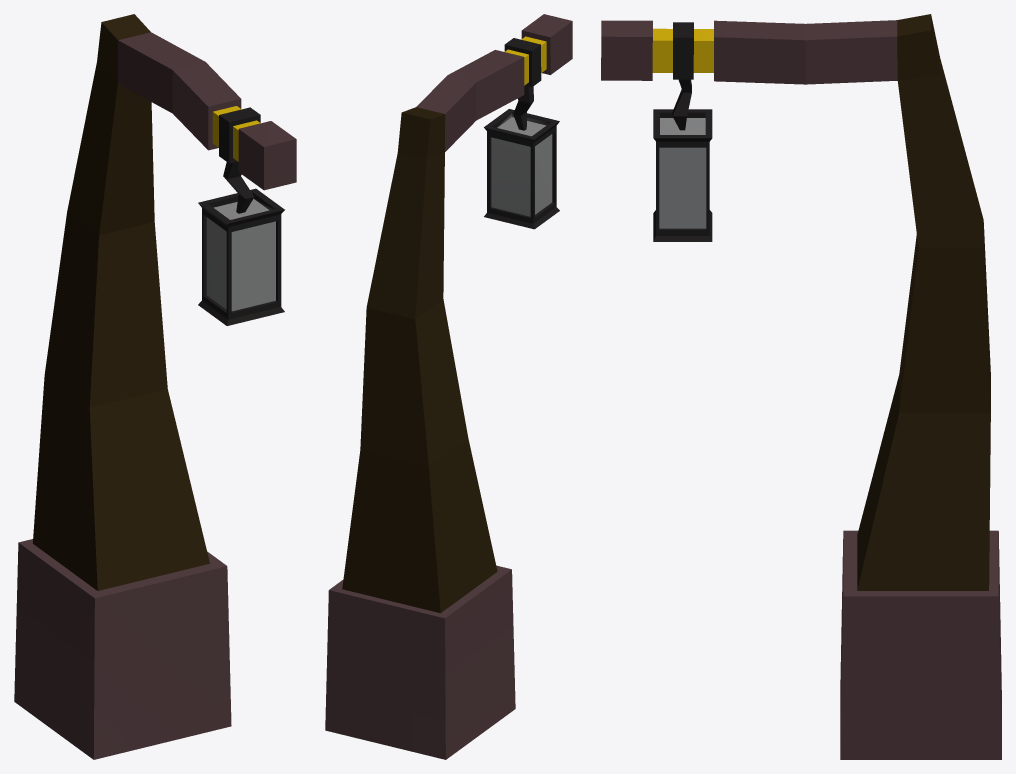
File: PosteLOD.fbx
3 views of the same model, side by side, from view 1: azimuth 30°, elevation 25°; view 2: azimuth 150°, elevation 25°; view 3: azimuth 270°, elevation 25° (orthographic). The views are drawn at different scales.
Visible parts, largest first — view 1: Poste_LOD0; view 2: Poste_LOD0; view 3: Poste_LOD0.
Part boxes in pixels (x1,y1,x2,y2): Poste_LOD0: (14, 14, 296, 759); Poste_LOD0: (325, 14, 572, 759); Poste_LOD0: (601, 14, 1001, 759).
Size of what is drawn, in the model's own units: 52.92 by 254 by 131.
